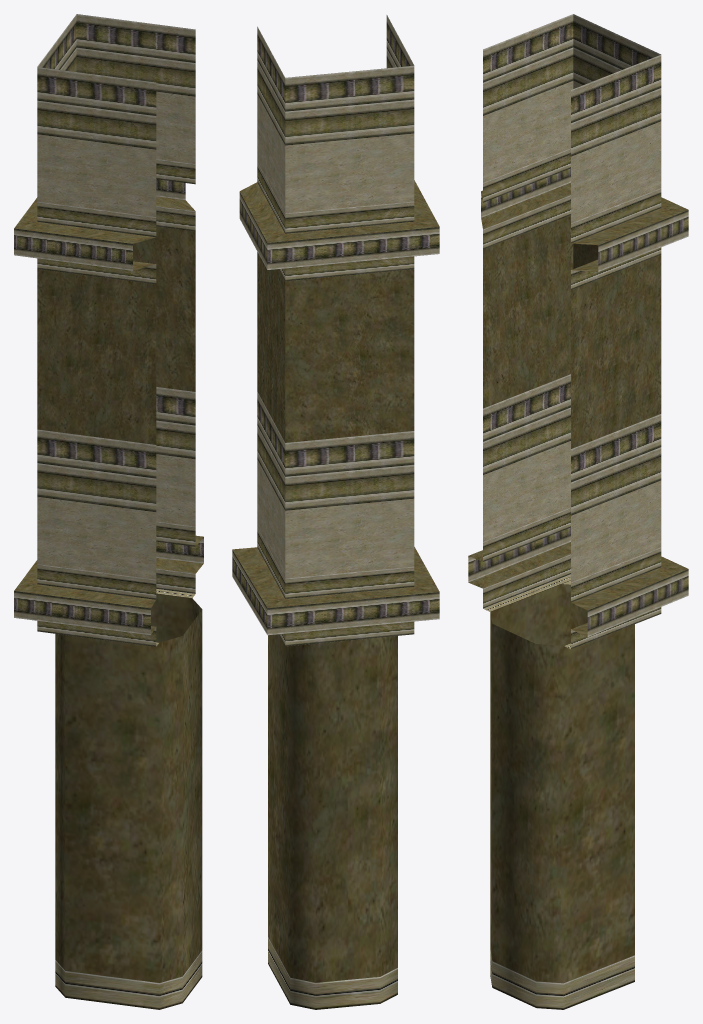
File: CH09_SMAUG_PLAYSURFACE_LAIR68.fbx
3 views of the same model, side by side, from view 1: azimuth 30°, elevation 25°; view 2: azimuth 150°, elevation 25°; view 3: azimuth 270°, elevation 25° (orthographic).
Visible parts, largest first — view 1: CH09_SMAUG_PLAYSURFACE_LAIR68; view 2: CH09_SMAUG_PLAYSURFACE_LAIR68; view 3: CH09_SMAUG_PLAYSURFACE_LAIR68.
Part boxes in pixels (x1,y1,x2,y2): CH09_SMAUG_PLAYSURFACE_LAIR68: (14,14,203,1009); CH09_SMAUG_PLAYSURFACE_LAIR68: (232,15,439,1009); CH09_SMAUG_PLAYSURFACE_LAIR68: (468,14,688,1009).
Size of the model in its own units: 42875 by 192842 by 41752.
5 materials, 5 textured.
